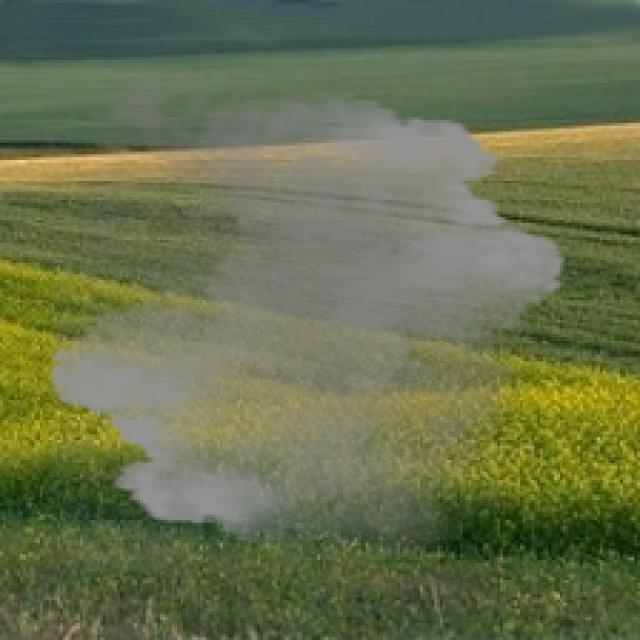smoke: (31, 57, 583, 572)
